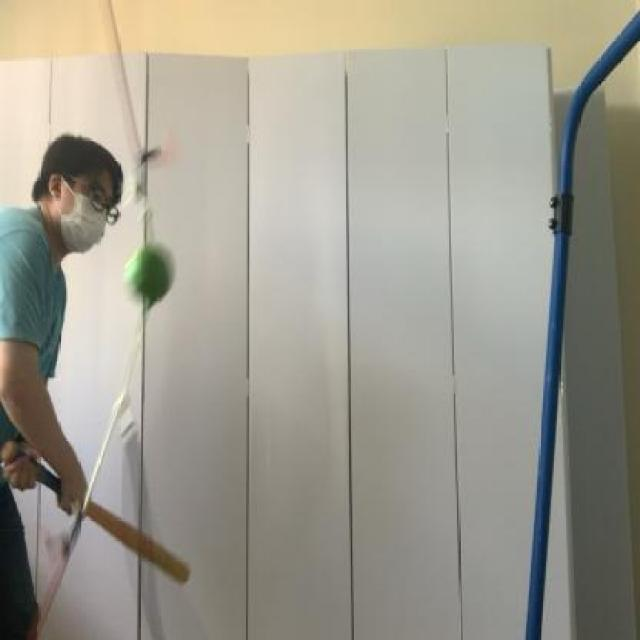baseball: (117, 235, 175, 312)
